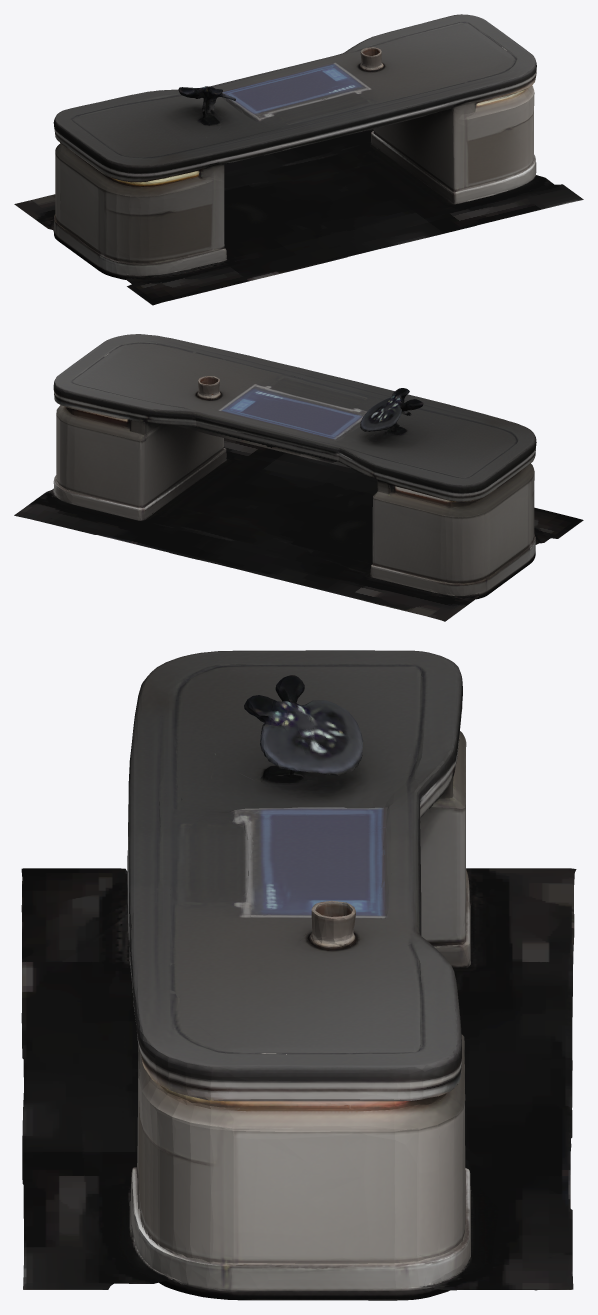
The model's file is ready_room_desk.glb.
3 views of the same model, one above another, from view 1: azimuth 30°, elevation 25°; view 2: azimuth 150°, elevation 25°; view 3: azimuth 270°, elevation 25° (orthographic). The views are drawn at different scales.
Visible parts, largest first — view 1: world; view 2: world; view 3: world.
Part boxes in pixels (<box>): world: <box>14,14,583,305</box>; world: <box>14,334,583,621</box>; world: <box>21,650,576,1300</box>.
Bounding box in the file's own units: 1 × 0.3323 × 0.5567.
Materials: 1 (1 with a texture image).
